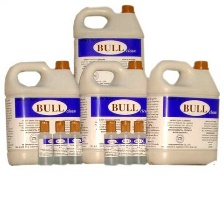cleaning_solution: (2, 56, 83, 169), (144, 57, 223, 167), (77, 56, 154, 167), (70, 2, 147, 101), (115, 119, 136, 166), (130, 118, 149, 167), (100, 117, 119, 166), (35, 119, 54, 166), (51, 118, 68, 166), (66, 119, 83, 165)
